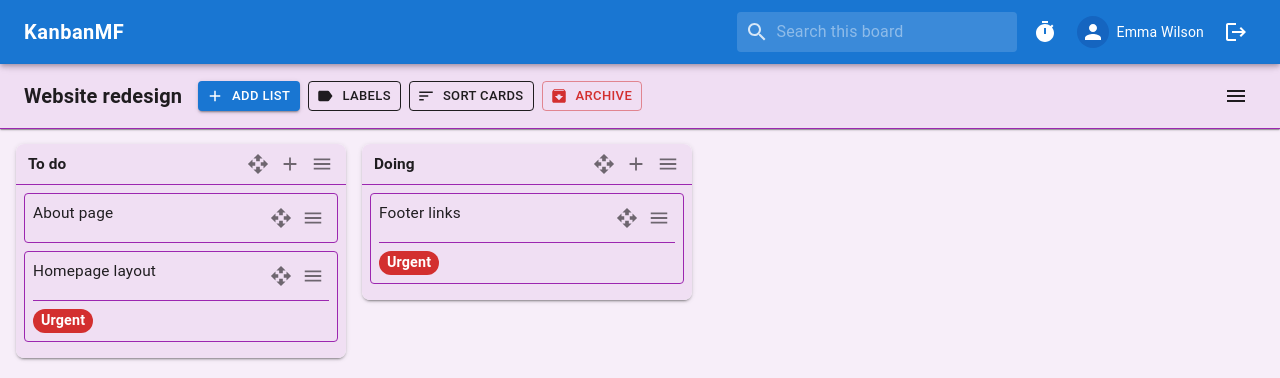
Test: Board › the sort mode, as the browser keeps it (6I) › takes a kept sort that is no sort mode as the custom order
Expected: the text "Homepage layout" is shown, [33,262,156,280]
Expected: the text "Footer links" is shown, [379,204,461,222]
What coordinates should you click on to do the following:
click the button "Sort cards"
I would click on:
 (471, 96)
Its box is [409,81,534,111].
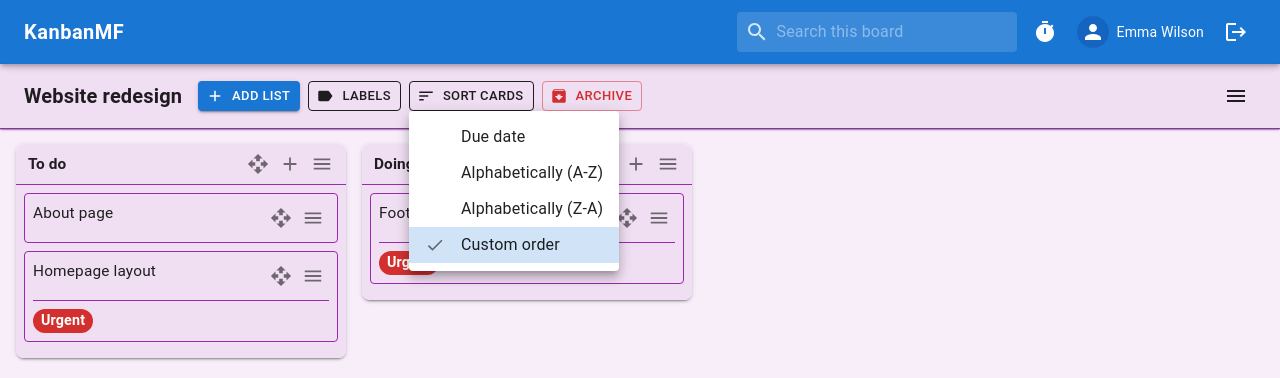
Expected: the icon with test id "CheckIcon" is shown, [425,235,445,255]
